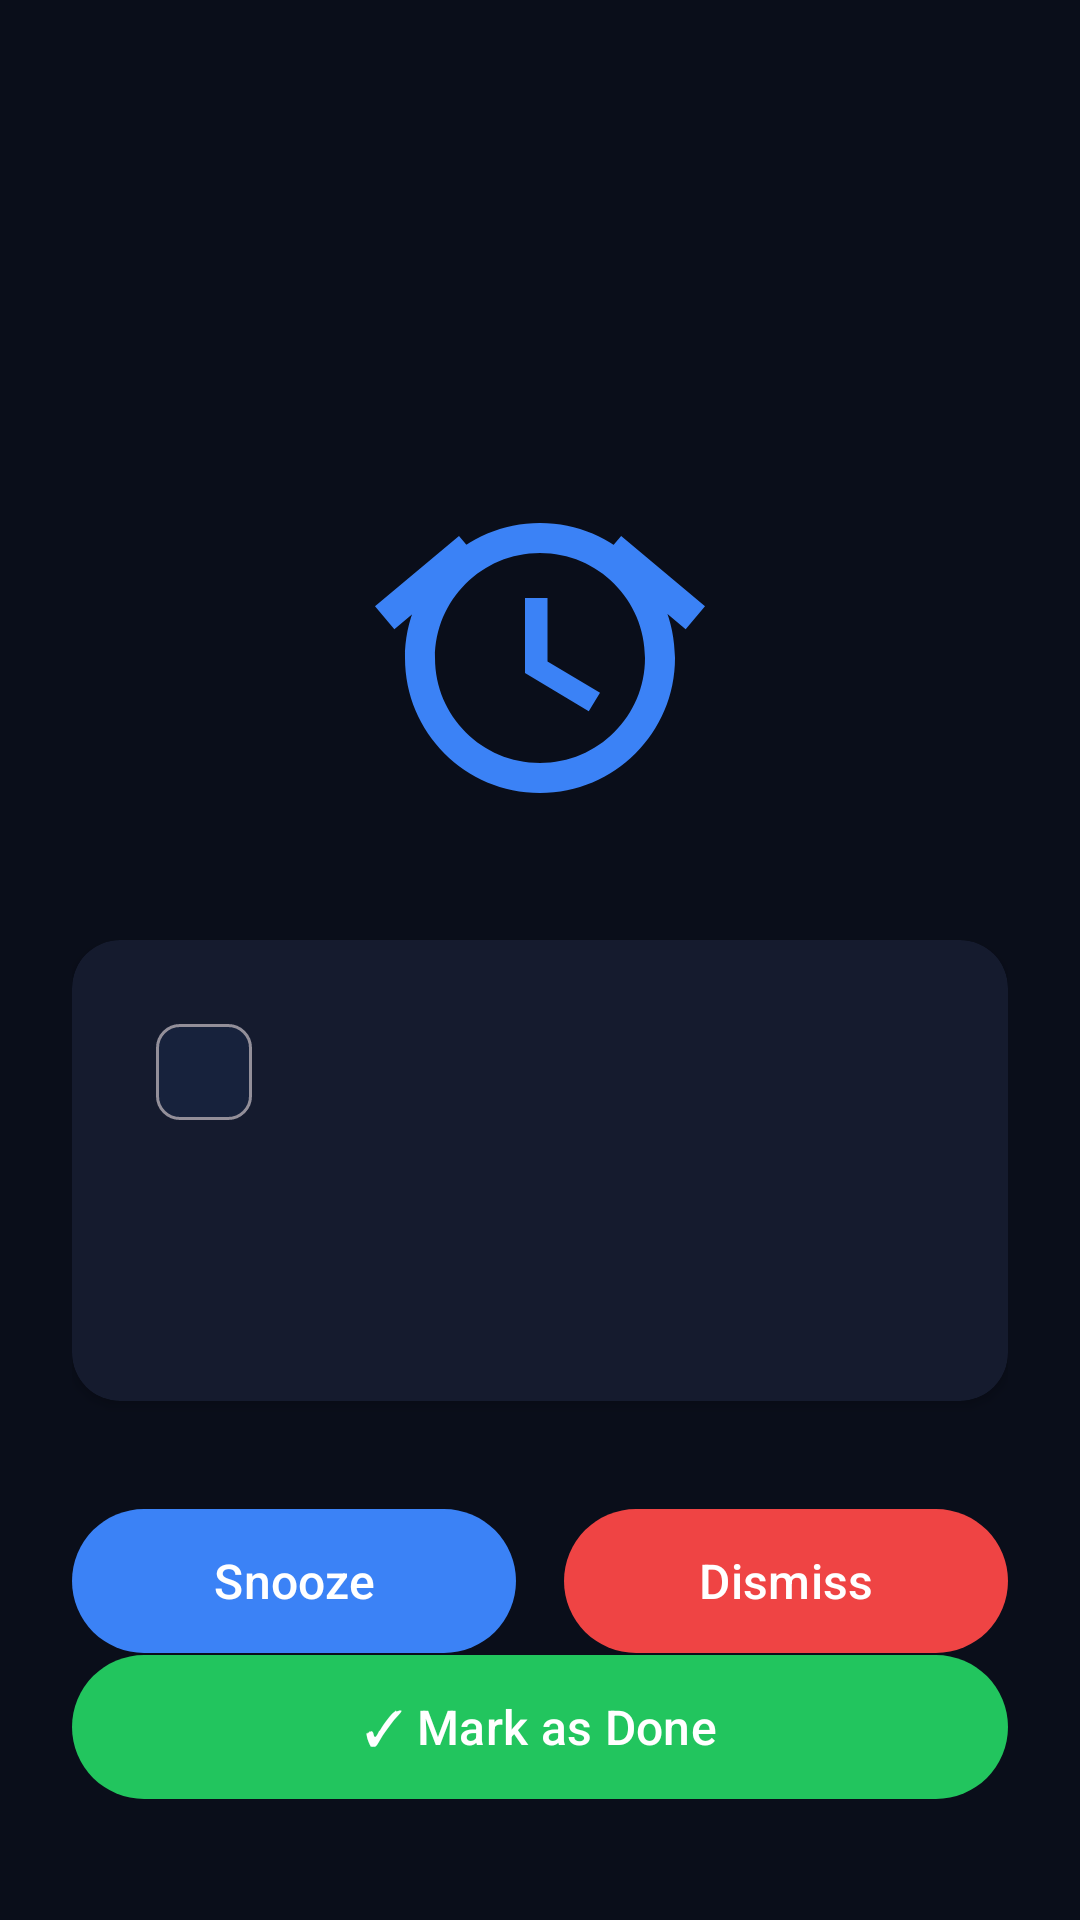

Icon click points for this 1080*1920 phone screenshot, format (x,y):
alarm: (540,658)
